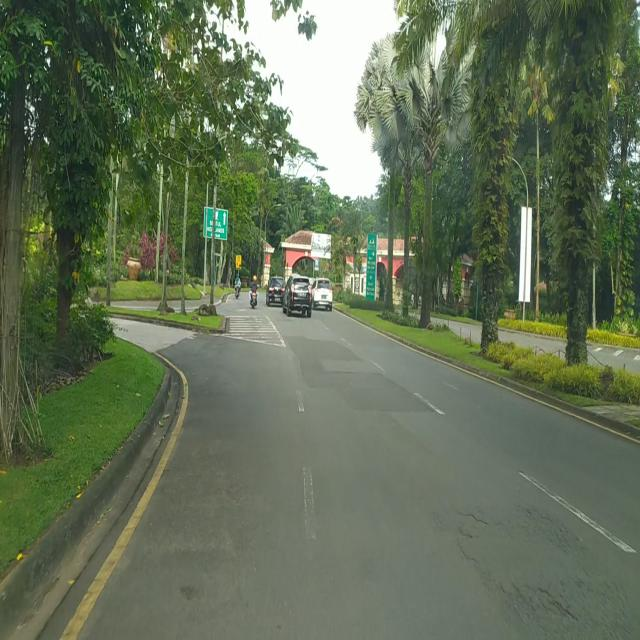Drain Hole: (444, 495, 592, 640)
